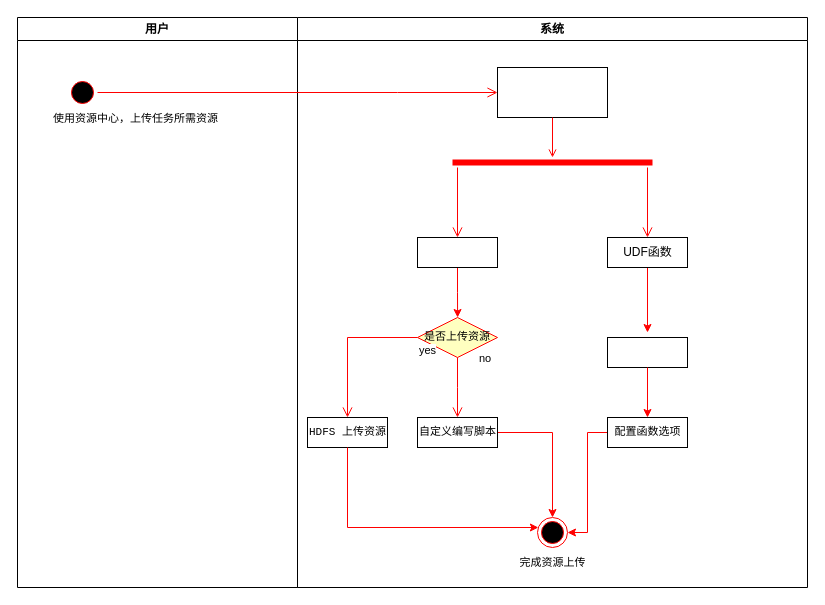
Some shapes in this 825 by 605 pixel diagram are drawn without their labels. Each missing label, with the centre of its shape:
上传函数jar包: the point at 647,352
文件管理: the point at 457,252
资源中心: the point at 552,92
